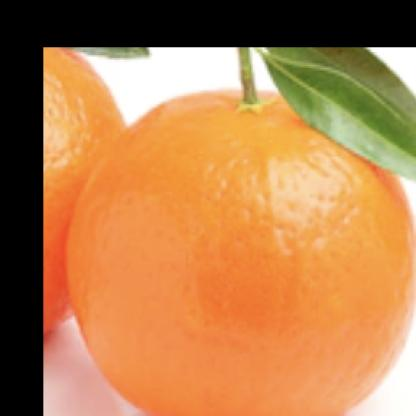fresh: (72, 86, 411, 416)
